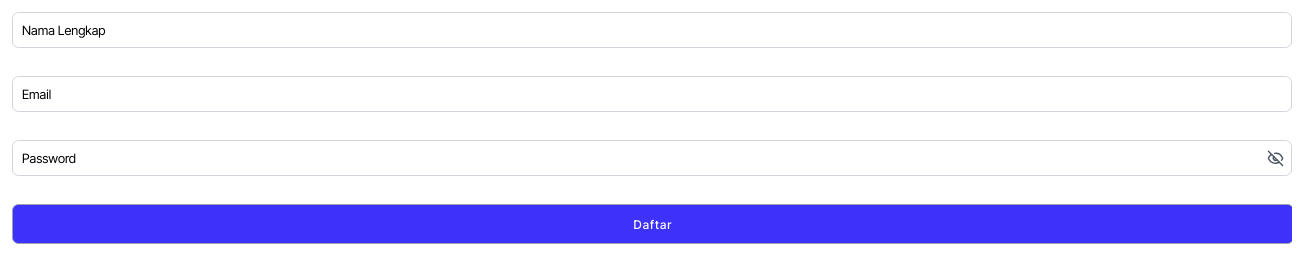
RegisterView › shows error messages when form is submitted empty
This screenshot has width=1304, height=261.
Click the button "Daftar": coordinates (652, 224) [12,204,1292,244]
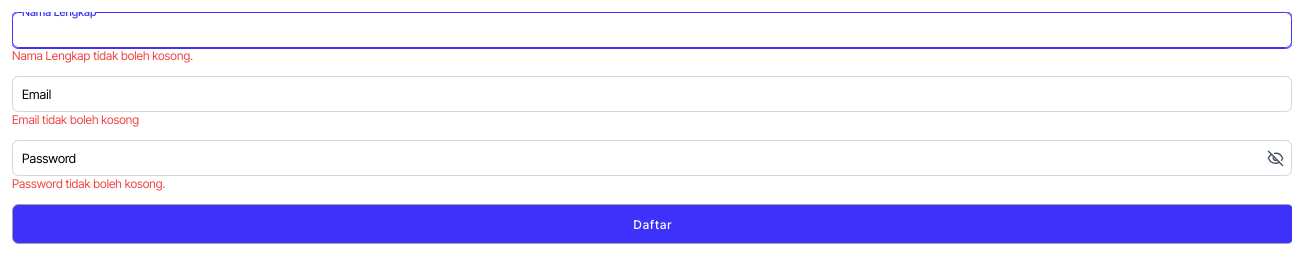
Now the text "Email tidak boleh kosong" is shown, box [12,112,139,127]
Now the text "Password tidak boleh kosong." is shown, box [12,176,165,191]
Now the text "Nama Lengkap tidak boleh kosong." is shown, box [12,48,193,63]
